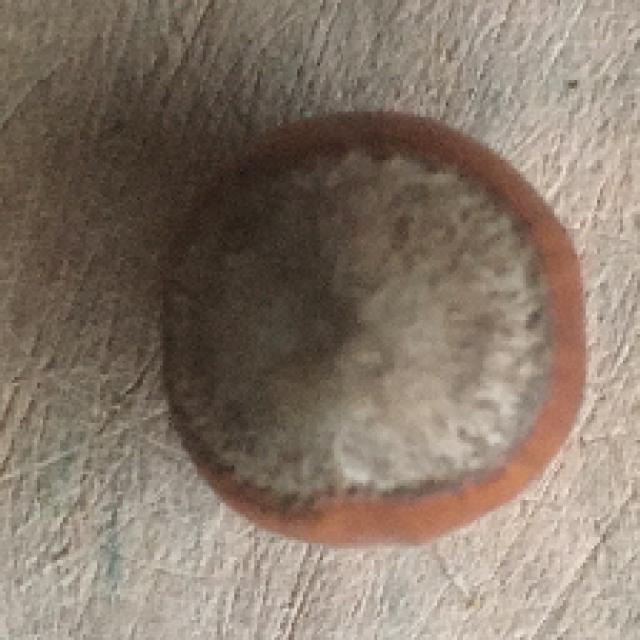qualityHazelnut: (154, 107, 591, 555)
